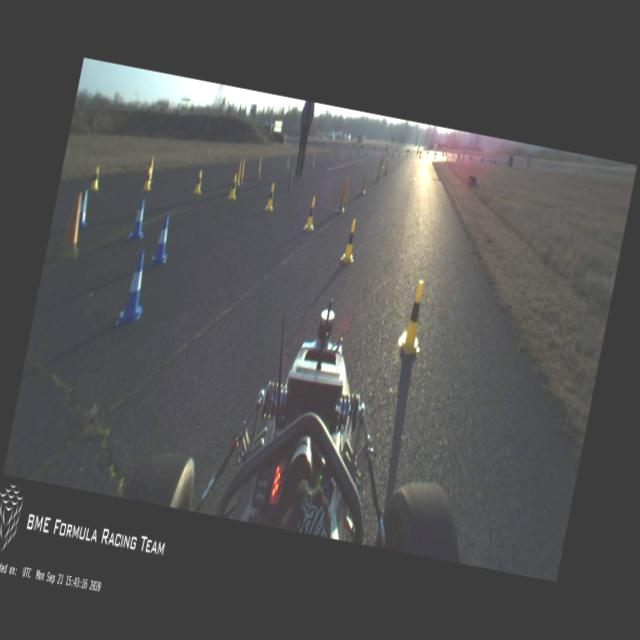blue_cone: (116, 250, 152, 330), (150, 214, 174, 268), (128, 196, 150, 242), (76, 190, 93, 228)
yellow_cone: (396, 276, 434, 360), (340, 218, 360, 266), (302, 196, 320, 234), (264, 182, 278, 212), (228, 173, 240, 201), (193, 170, 206, 194), (142, 166, 154, 192), (90, 164, 102, 190)
